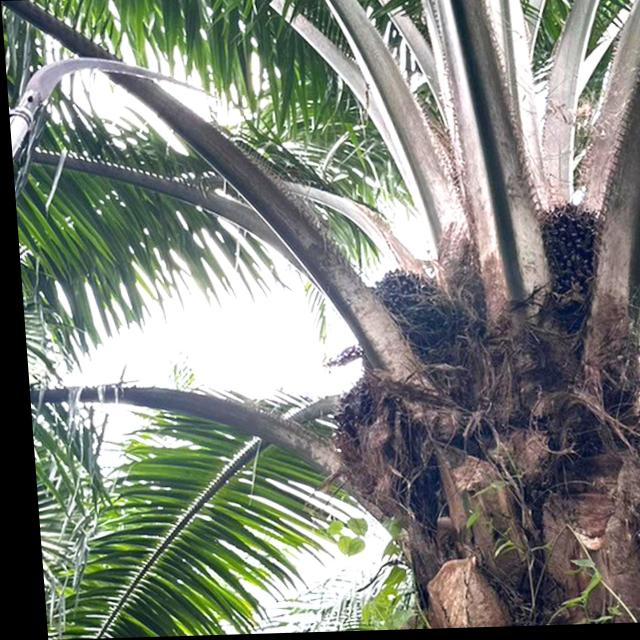unripe: (508, 189, 618, 329), (305, 362, 418, 495), (350, 259, 467, 380)
